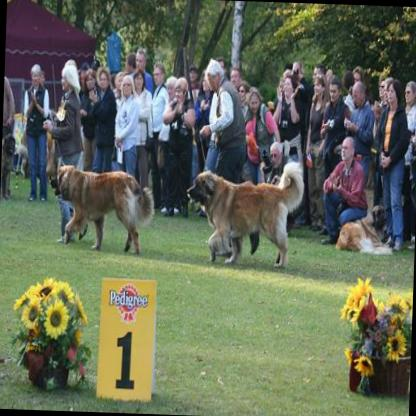Leonberg: (184, 161, 304, 268), (44, 162, 155, 258), (335, 200, 394, 262)
